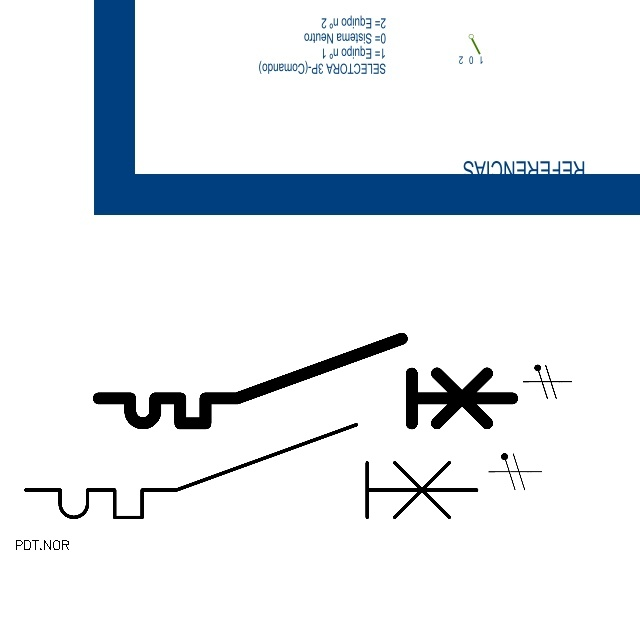interruptor_termomagnetico: (14, 413, 488, 529), (88, 328, 522, 434)
